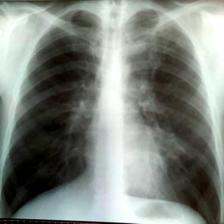tuberculosis: (3, 7, 223, 224)
